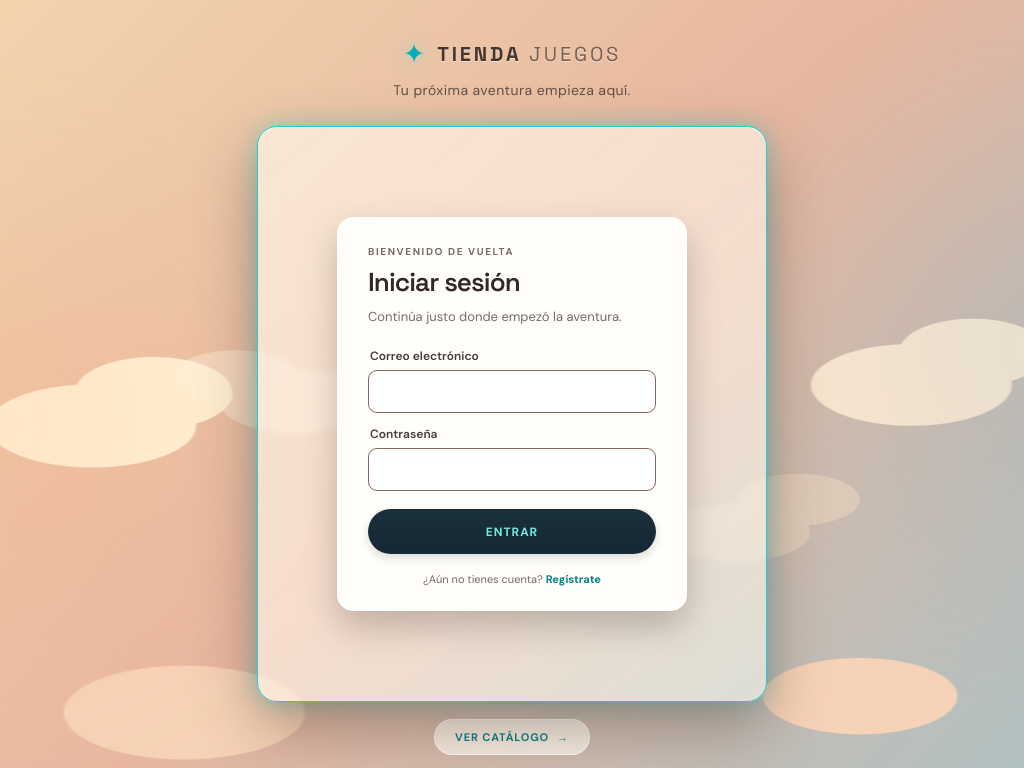
Test: AuthScreen › autentica con credenciales válidas y conmuta a registro
The width and height of the screenshot is (1024, 768).
Later steps or results of the test are not shown.
Step 1. Type " ana@correo.com " into the field labelled "Correo electrónico" → (512,392), box [368,370,656,413]
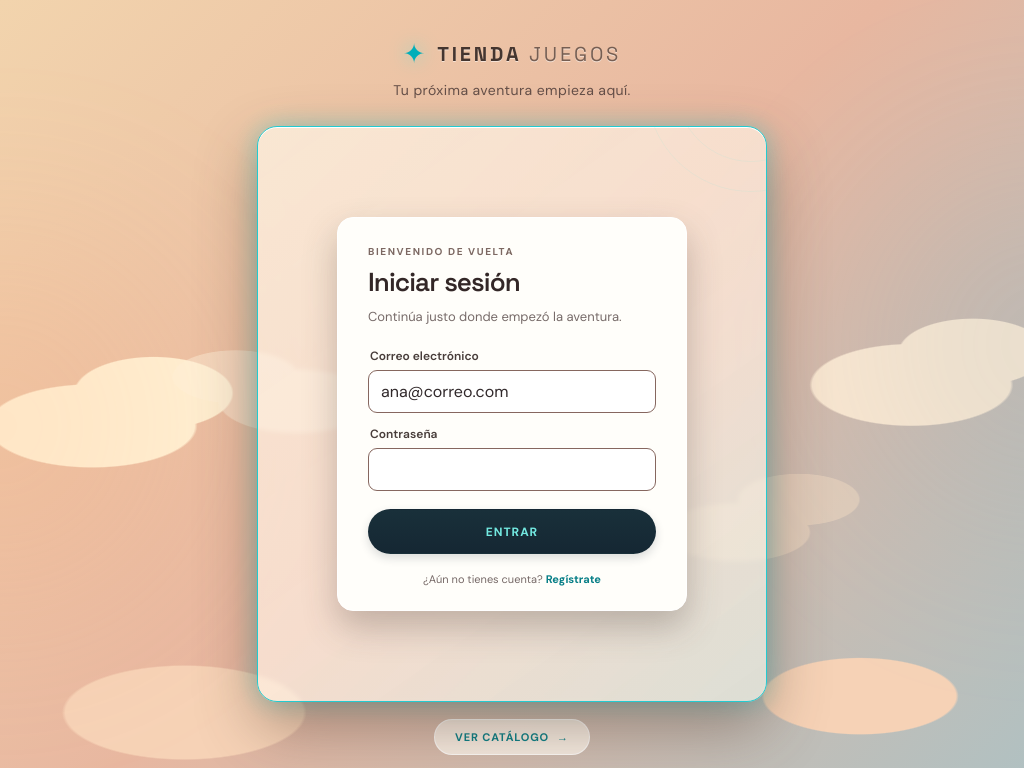
Step 2. Type "12345678" into the password field labelled "Contraseña" → (512,470), box [368,448,656,491]
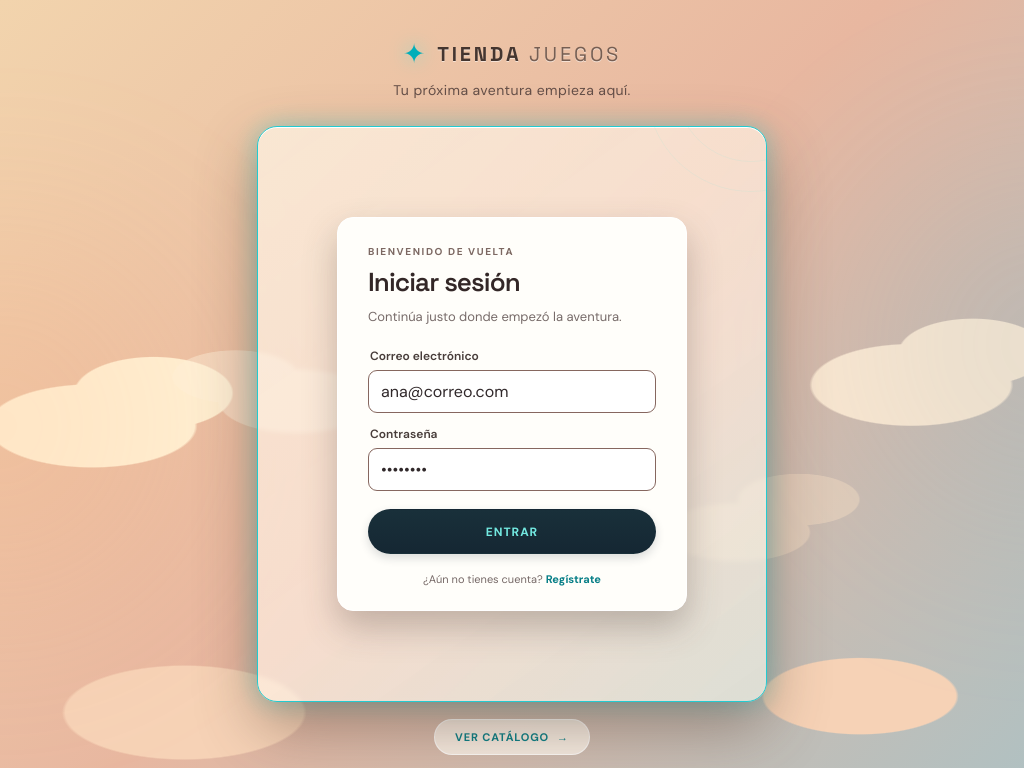
Step 3. Click the button "Entrar" → (512,532), box [368,509,656,554]
Step 4. Click the button "Regístrate" → (573,579), box [546,572,601,586]
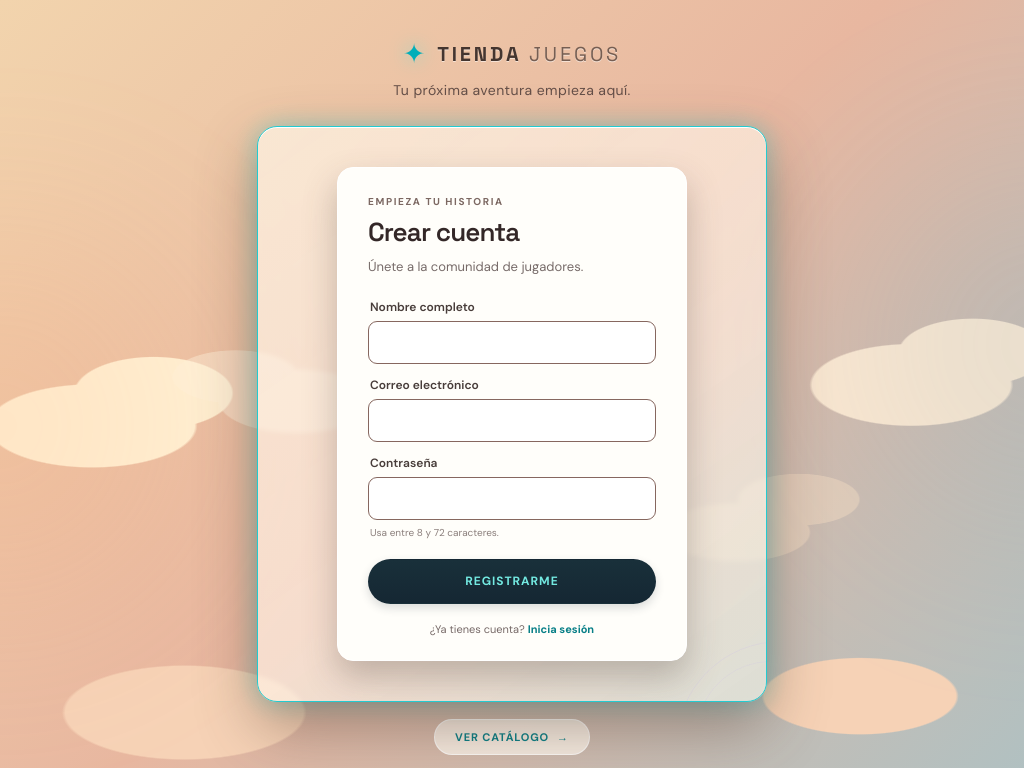
Now the heading "Crear cuenta" is shown, box [368,215,519,249]
Step 5. Click the button "Inicia sesión" → (561,629), box [528,622,594,636]
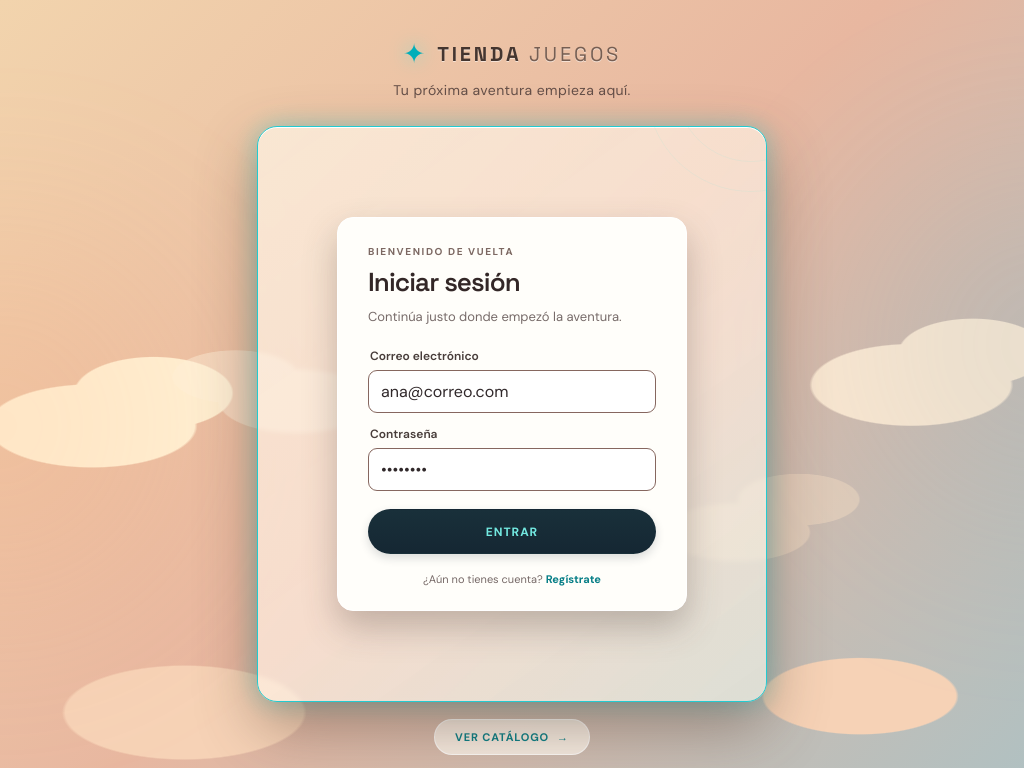
Now the heading "Iniciar sesión" is shown, box [368,265,520,299]
